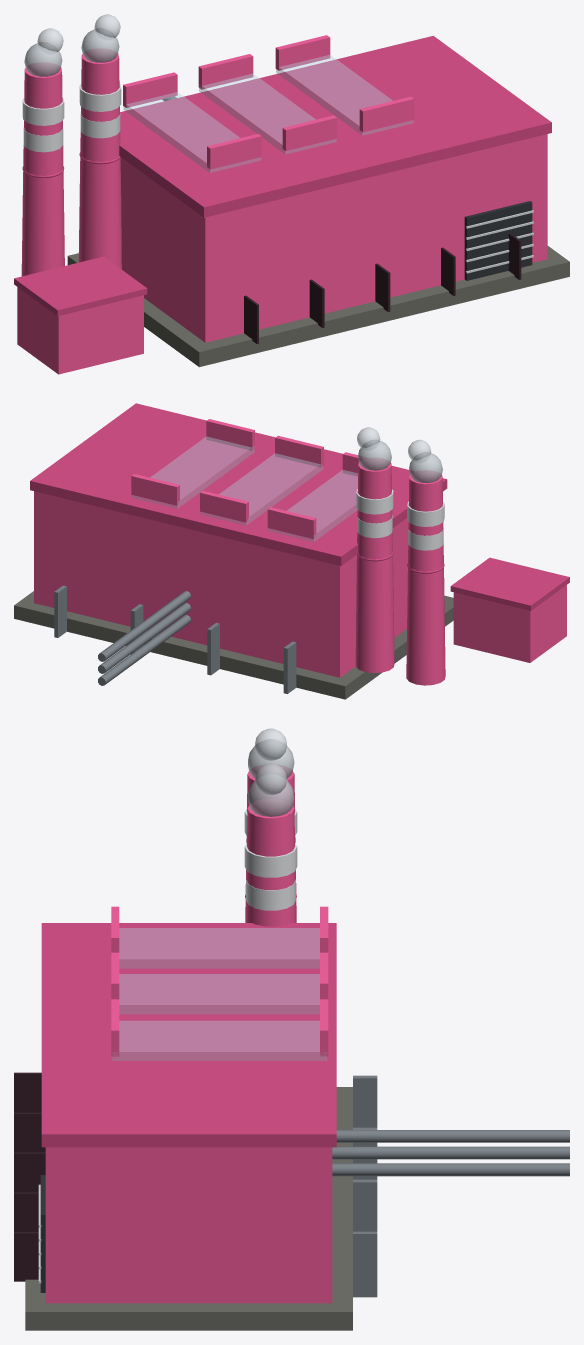
Rendered from factory-service.glb.
3 renders of one model, top to bottom at view 1: azimuth 30°, elevation 25°; view 2: azimuth 150°, elevation 25°; view 3: azimuth 270°, elevation 25°, orthographic. The views are drawn at different scales.
Visible parts, largest first — view 1: factory-service; view 2: factory-service; view 3: factory-service.
Part boxes in pixels (x1,y1,x2,y2): factory-service: (14, 14, 569, 374); factory-service: (14, 403, 569, 699); factory-service: (14, 728, 569, 1330).
Size of the model in its own units: 35.15 by 18.6 by 27.15.
